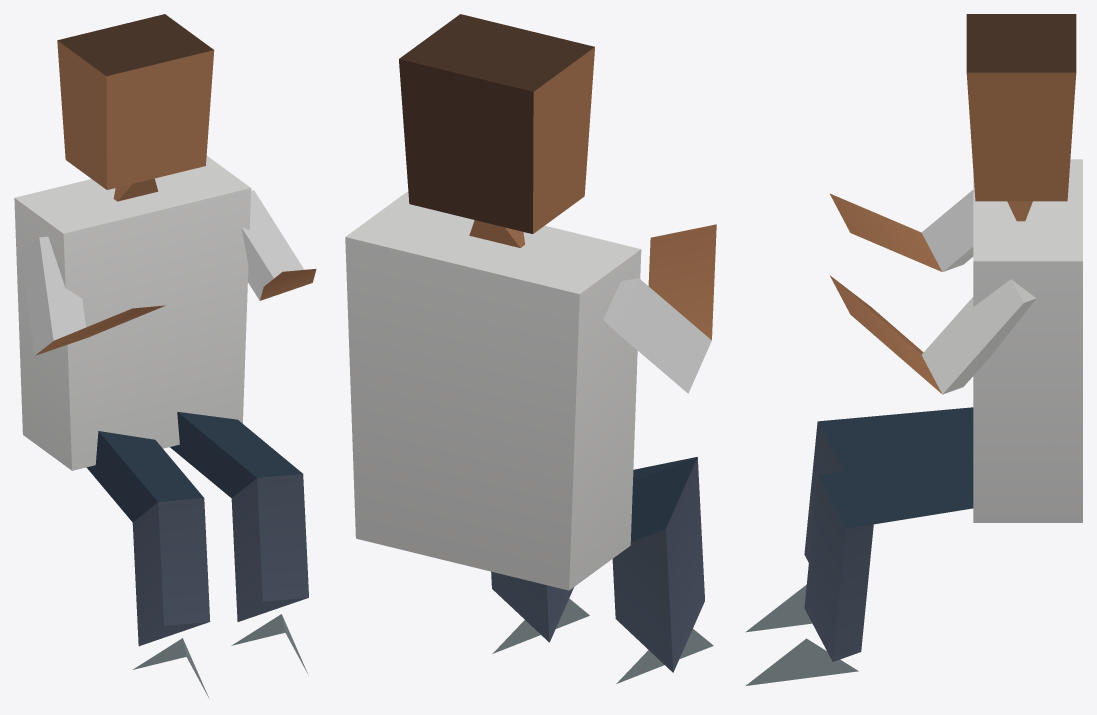
File: fan-06.glb
3 renders of one model, left to right at view 1: azimuth 30°, elevation 25°; view 2: azimuth 150°, elevation 25°; view 3: azimuth 270°, elevation 25°, orthographic. The views are drawn at different scales.
Parts seen in each view (by area): view 1: fan-06; view 2: fan-06; view 3: fan-06.
Boxes of the visible parts, left/top/right/bottom form: fan-06: left=14, top=14, right=316, bottom=699; fan-06: left=345, top=14, right=716, bottom=683; fan-06: left=745, top=14, right=1082, bottom=685.
Size of the model in its own units: 0.7875 by 1.55 by 0.77.
